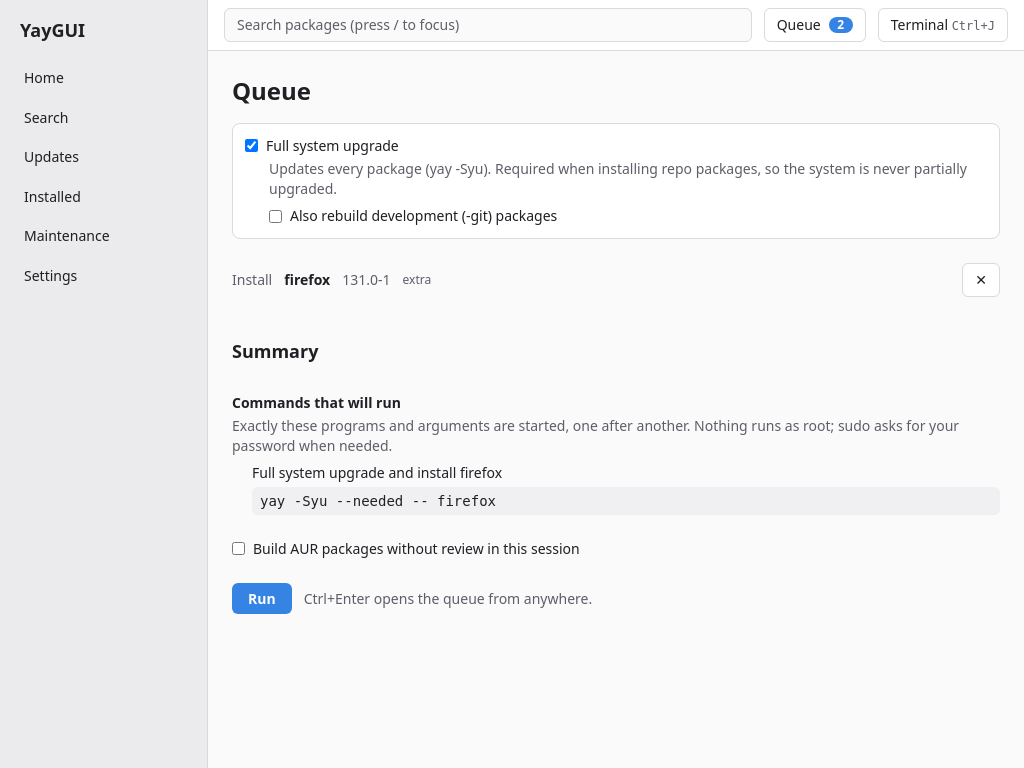
Test case: queue → review → run › can be cancelled while waiting for the password
Click the button "Run": [262, 598] box x1=232 y1=582 x2=292 y2=614
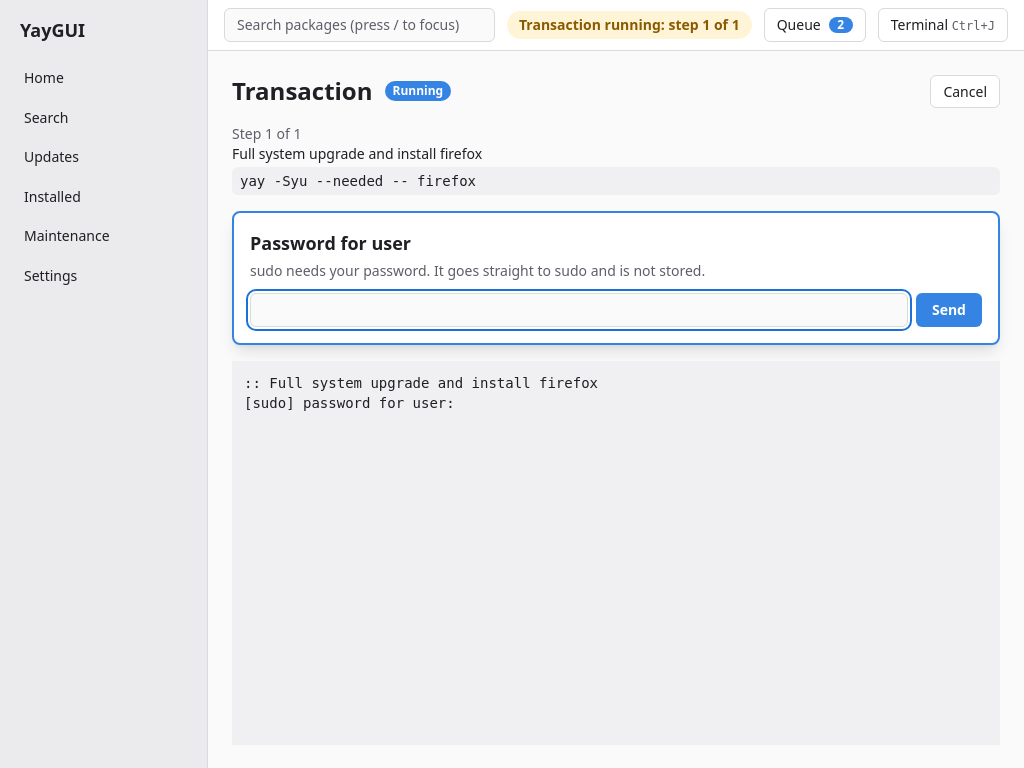
Now the password field named "Password" is shown, box x1=250 y1=293 x2=908 y2=327
Now the link "Transaction running: step 1 of 1" is shown, box x1=507 y1=11 x2=752 y2=39
Click the button "Cancel": [965, 91] box x1=930 y1=75 x2=1000 y2=108
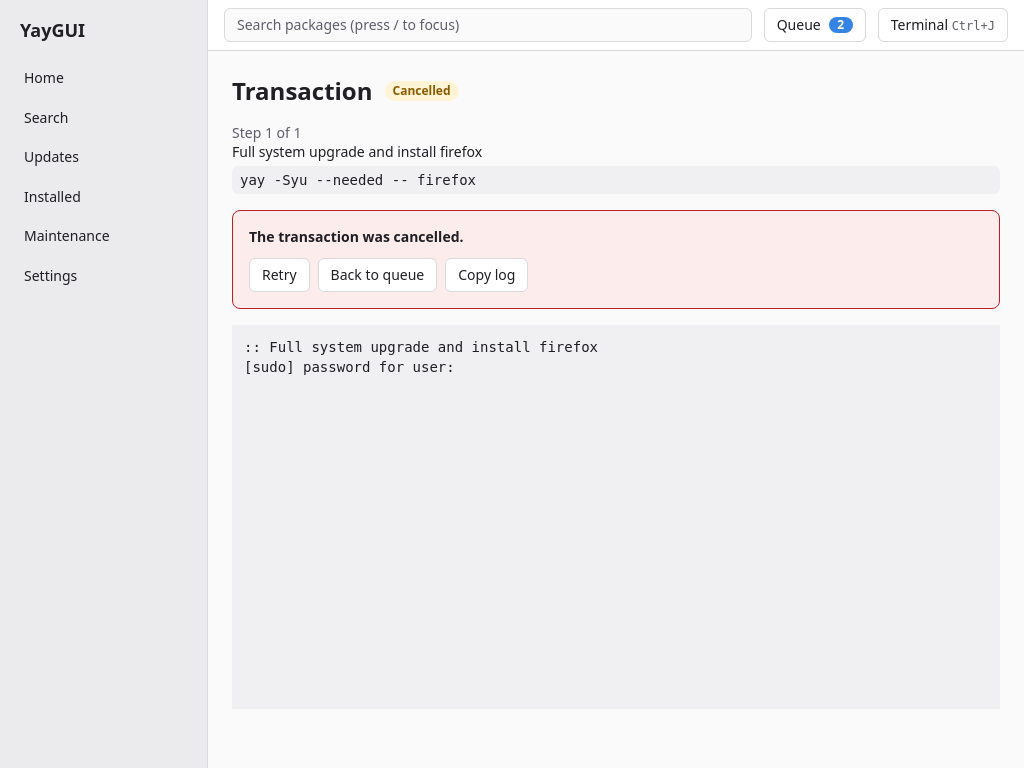
Now the text "The transaction was cancelled." is shown, box x1=249 y1=227 x2=464 y2=246
